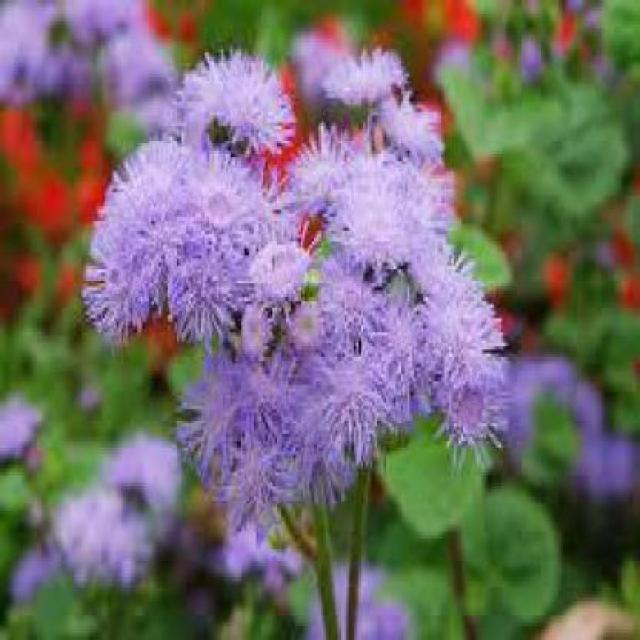flower: (79, 47, 515, 513)
